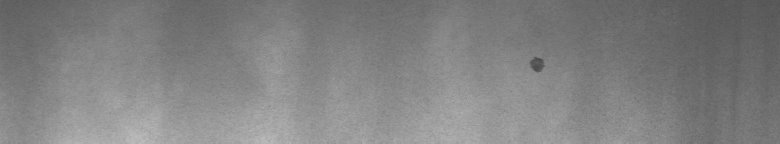fi: (525, 52, 548, 79)
